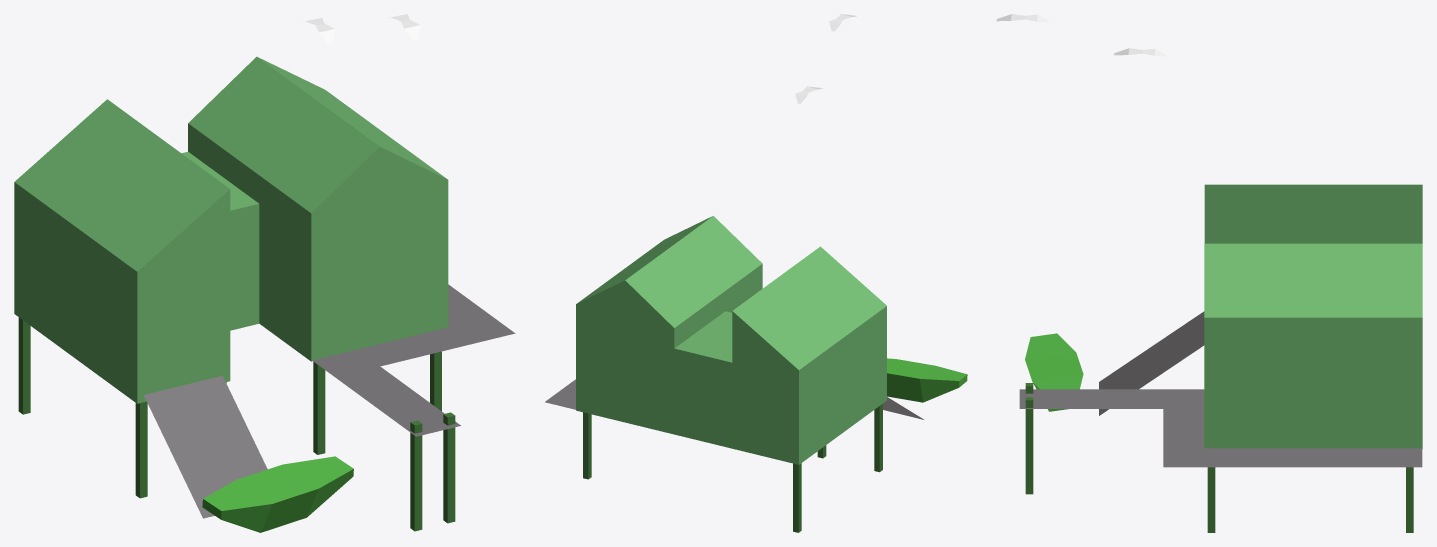
The model's file is dock.fbx.
3 views of the same model, side by side, from view 1: azimuth 30°, elevation 25°; view 2: azimuth 150°, elevation 25°; view 3: azimuth 270°, elevation 25° (orthographic). The views are drawn at different scales.
Parts seen in each view (by area): view 1: Cube, Plane.003, Plane.001, Cube.009, Cube.008, Cube.007, Cube.004, Cube.006, Cube.002, Cube.001; view 2: Cube, Cube.009, Cube.006, Cube.005, Cube.004, Plane.001; view 3: Cube, Plane.001, Plane.003, Cube.009, Cube.007, Cube.001, Cube.005.
Boxes of the visible parts, <box> form: Cube: <box>14,56,448,403</box>; Plane.003: <box>144,375,267,518</box>; Plane.001: <box>312,284,515,436</box>; Cube.009: <box>202,456,353,532</box>; Cube.008: <box>410,420,422,531</box>; Cube.007: <box>443,412,455,523</box>; Cube.004: <box>135,401,147,498</box>; Cube.006: <box>18,317,30,414</box>; Cube.002: <box>313,361,325,454</box>; Cube.001: <box>430,351,441,411</box>; Cube: <box>576,216,886,464</box>; Cube.009: <box>887,358,967,402</box>; Cube.006: <box>793,463,801,532</box>; Cube.005: <box>583,412,591,479</box>; Cube.004: <box>874,404,882,472</box>; Plane.001: <box>545,379,575,409</box>; Cube: <box>1204,184,1422,448</box>; Plane.001: <box>1019,389,1422,467</box>; Plane.003: <box>1099,311,1204,415</box>; Cube.009: <box>1025,333,1083,411</box>; Cube.007: <box>1025,397,1033,494</box>; Cube.001: <box>1207,467,1215,532</box>; Cube.005: <box>1406,467,1413,532</box>.
Bounding box in the file's own units: 0.8163 × 1.07 × 0.9119.
